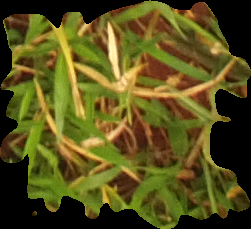grass: (1, 1, 250, 228)
